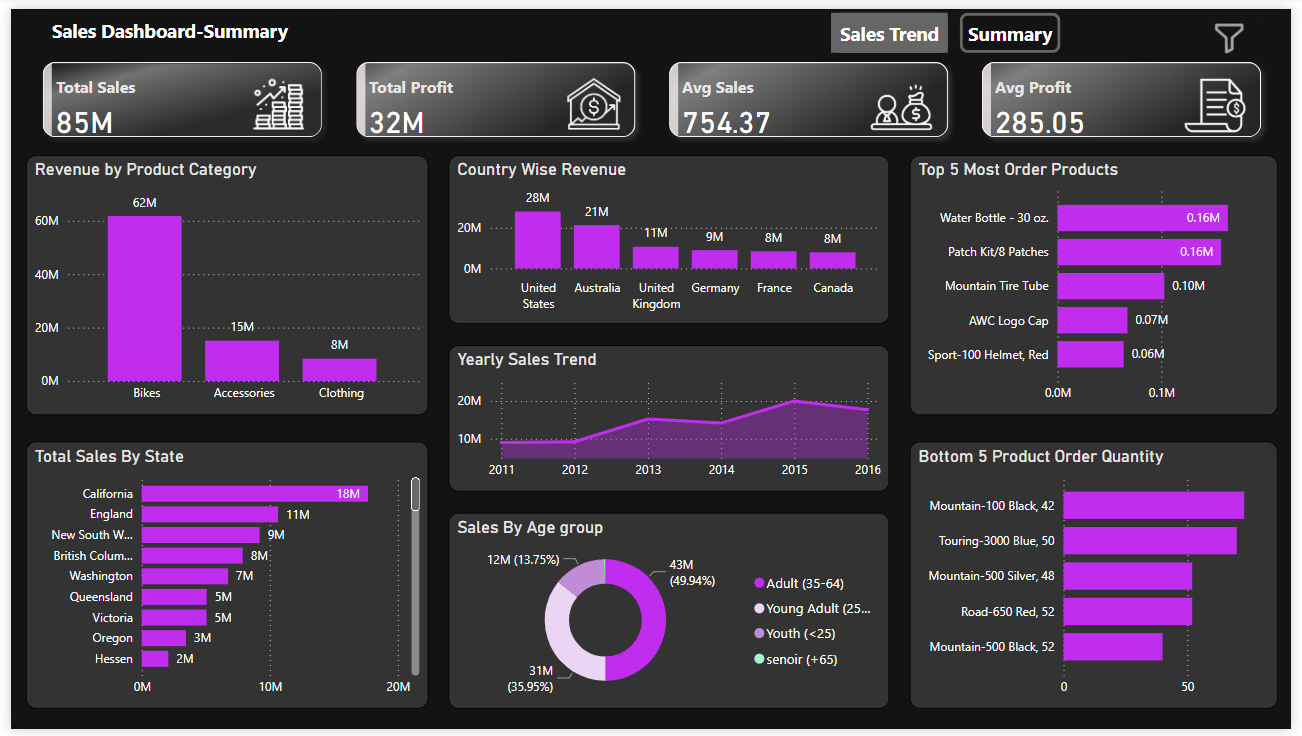

This screenshot's page, from the dashboard's own definition file:
{"tool":"powerbi","page":{"name":"Summary","canvas":[1280,720],"ordinal":0},"visuals":[{"type":"cardVisual","fields":{"Data":["Measure.Total Sales","Measure.Total Profit","Measure.Avg Sales","Measure.Avg Profit"]},"box":[14.6,36.6,1252.2,109.8],"z":0},{"type":"columnChart","title":"Revenue by Product Category","fields":{"Category":["sales_data.Product_Category"],"Y":["Sum(sales_data.Revenue)"]},"box":[14.6,146.5,402.7,260],"z":1000},{"type":"columnChart","title":"Country Wise Revenue","fields":{"Y":["Sum(sales_data.Revenue)"],"Category":["sales_data.Country"]},"box":[437.5,146.5,441.2,168.4],"z":2000},{"type":"lineChart","title":"Yearly Sales Trend","fields":{"Y":["Sum(sales_data.Revenue)"],"Category":["sales_data.Date.Variation.Date Hierarchy.Year"]},"box":[437.5,335.9,441.2,146.5],"z":3000},{"type":"barChart","title":"Total Sales By State","fields":{"Y":["Sum(sales_data.Revenue)"],"Category":["sales_data.State"]},"box":[14.6,432,402.7,267.3],"z":4000},{"type":"barChart","title":"Bottom 5 Product Order Quantity","fields":{"Category":["sales_data.Product"],"Y":["Sum(sales_data.Order_Quantity)"]},"box":[898.9,432,368,267.3],"z":5000},{"type":"barChart","title":"Top 5 Most Order Products","fields":{"Category":["sales_data.Product"],"Y":["Sum(sales_data.Order_Quantity)"]},"box":[898.9,146.5,368,260],"z":6000},{"type":"donutChart","title":"Sales By Age group","fields":{"Category":["sales_data.Age Group"],"Y":["Sum(sales_data.Revenue)"]},"box":[437.5,503.4,441.2,195.9],"z":7000},{"type":"textbox","box":[34.8,3.7,292.9,36.6],"z":8000},{"type":"actionButton","box":[948.3,3.7,100.7,40.3],"z":9000},{"type":"actionButton","box":[820.1,3.7,117.2,40.3],"z":10000},{"type":"image","box":[1186.3,7.3,64.1,43.9],"z":11000}]}

Visuals, with their boxes in screenshot pixels (x1, y1, x2, y2), scaled from the page's 1280x720 canvas onto the 1302x736 screenshot:
cardVisual - Measure.Total Sales x Measure.Total Profit: 15 37 1289 150
"Revenue by Product Category" columnChart: 15 150 424 416
"Country Wise Revenue" columnChart: 445 150 894 322
"Yearly Sales Trend" lineChart: 445 343 894 493
"Total Sales By State" barChart: 15 442 424 715
"Bottom 5 Product Order Quantity" barChart: 914 442 1289 715
"Top 5 Most Order Products" barChart: 914 150 1289 416
"Sales By Age group" donutChart: 445 515 894 715
textbox: 35 4 333 41
actionButton: 965 4 1067 45
actionButton: 834 4 953 45
image: 1207 7 1272 52
